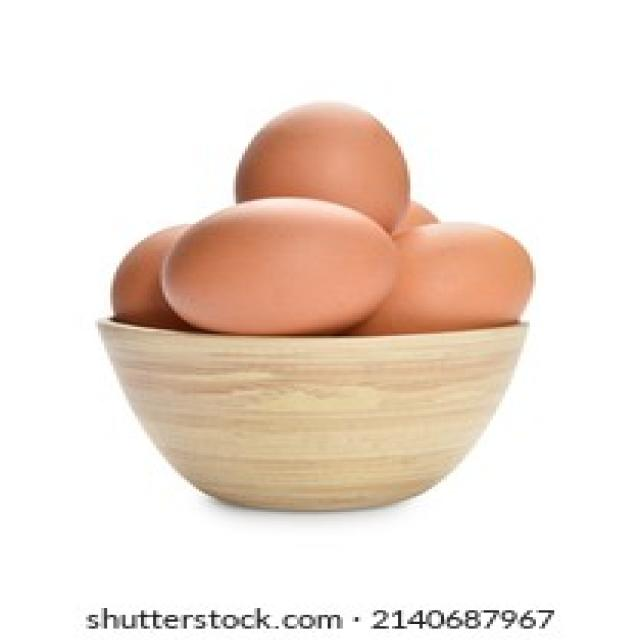Brown Egg: (164, 196, 409, 331), (223, 99, 414, 233), (378, 220, 538, 325)
